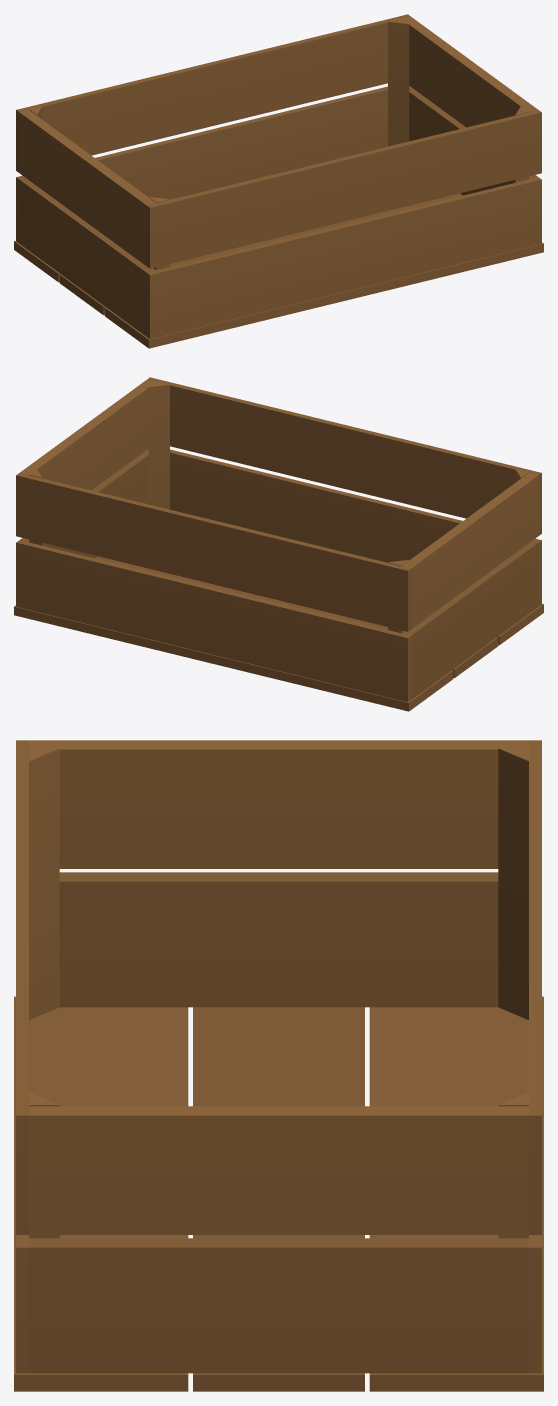
The model's file is Prop_Wooden_Crate_02.obj.
3 renders of one model, top to bottom at view 1: azimuth 30°, elevation 25°; view 2: azimuth 150°, elevation 25°; view 3: azimuth 270°, elevation 25°, orthographic. The views are drawn at different scales.
Visible parts, largest first — view 1: Prop_Wooden_Crate_02; view 2: Prop_Wooden_Crate_02; view 3: Prop_Wooden_Crate_02.
Part boxes in pixels (bbox=[...]): Prop_Wooden_Crate_02: bbox=[14, 14, 543, 348]; Prop_Wooden_Crate_02: bbox=[14, 377, 543, 711]; Prop_Wooden_Crate_02: bbox=[14, 740, 543, 1391].
Bounding box in the file's own units: 0.7662 × 0.2605 × 0.4537.
Materials: 1 (1 with a texture image).
